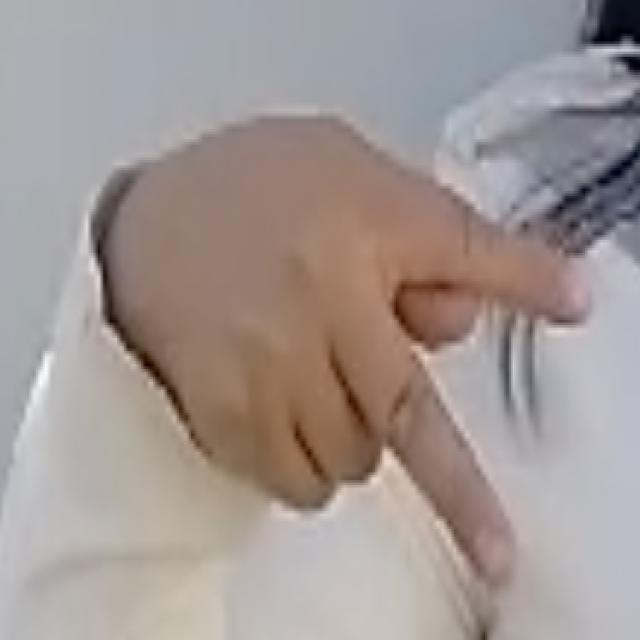K: (103, 102, 597, 588)
